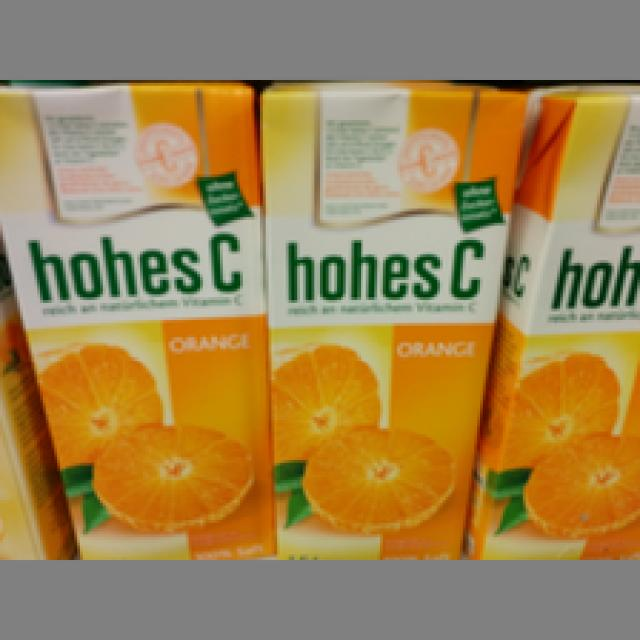groceries: (254, 77, 532, 554), (0, 82, 274, 551), (469, 80, 634, 554)
